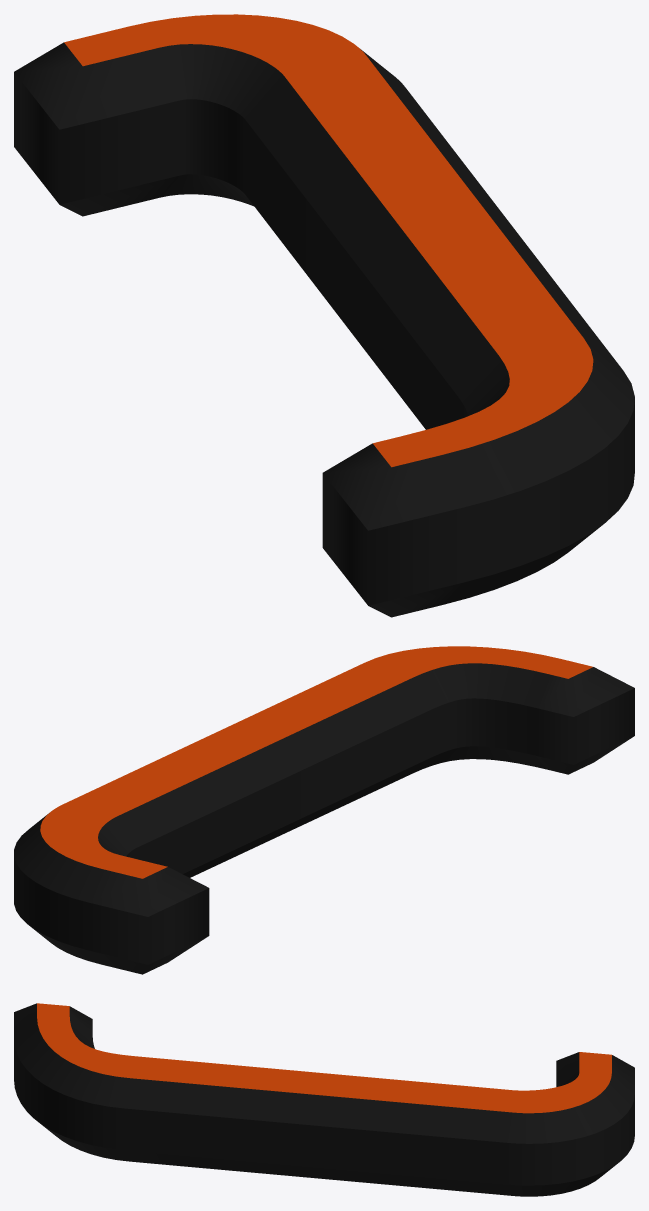
The model's file is ParanthèseFermante.fbx.
3 views of the same model, one above another, from view 1: azimuth 30°, elevation 25°; view 2: azimuth 150°, elevation 25°; view 3: azimuth 270°, elevation 25° (orthographic). The views are drawn at different scales.
Parts seen in each view (by area): view 1: Text; view 2: Text; view 3: Text.
Part boxes in pixels (left/top/right/bottom): Text: left=14, top=14, right=634, bottom=617; Text: left=14, top=646, right=634, bottom=974; Text: left=14, top=1003, right=634, bottom=1196.
Size of the model in its own units: 0.5416 by 0.16 by 1.08.
